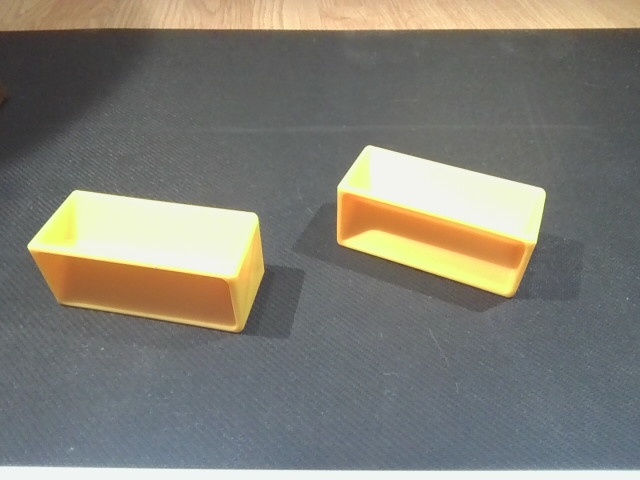YellowSample: (23, 177, 269, 333), (330, 136, 551, 303)
